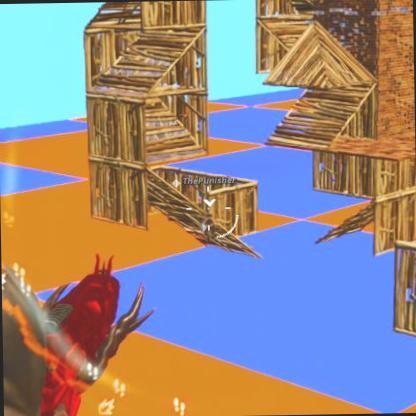person: (203, 210, 216, 242)
